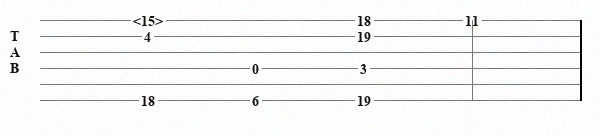0: (252, 61, 263, 75)
11: (465, 13, 483, 27)
18: (141, 93, 159, 107), (357, 13, 375, 27)
19: (357, 29, 375, 43), (357, 93, 375, 107)
3: (360, 61, 371, 75)
4: (144, 29, 155, 43)
6: (252, 93, 263, 107)
harmonic: (133, 13, 167, 27)
